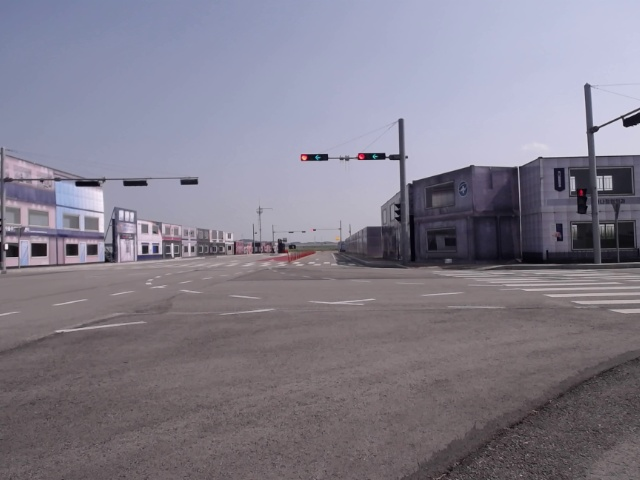left_green_4: (301, 154, 328, 161), (358, 153, 385, 160)
